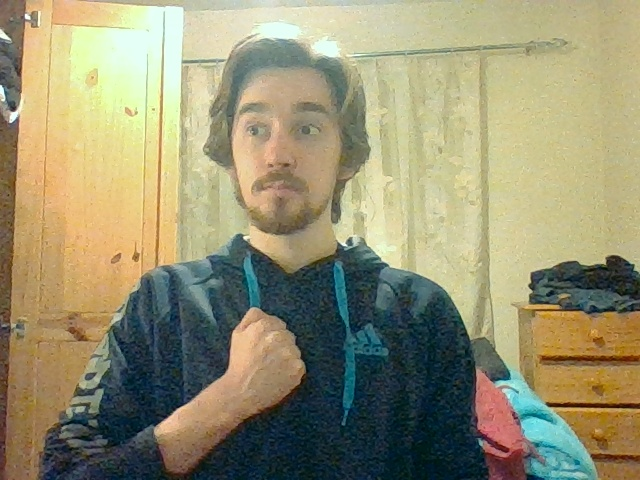my: (229, 308, 305, 401)
